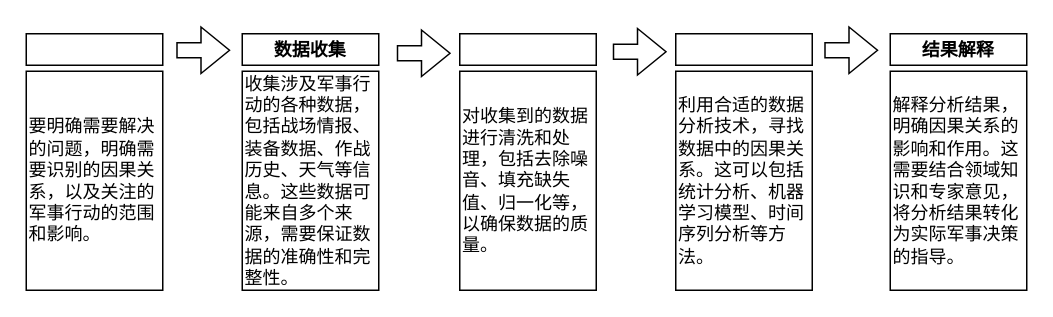
Image size: 1053x317. Some labels were removed from this diagram. The box of each missing label's shape, as (x1, y1, x2, y2) in pixels:
因果关系分析: (674, 32, 812, 65)
数据预处理: (458, 32, 596, 65)
问题定义: (25, 32, 163, 65)
